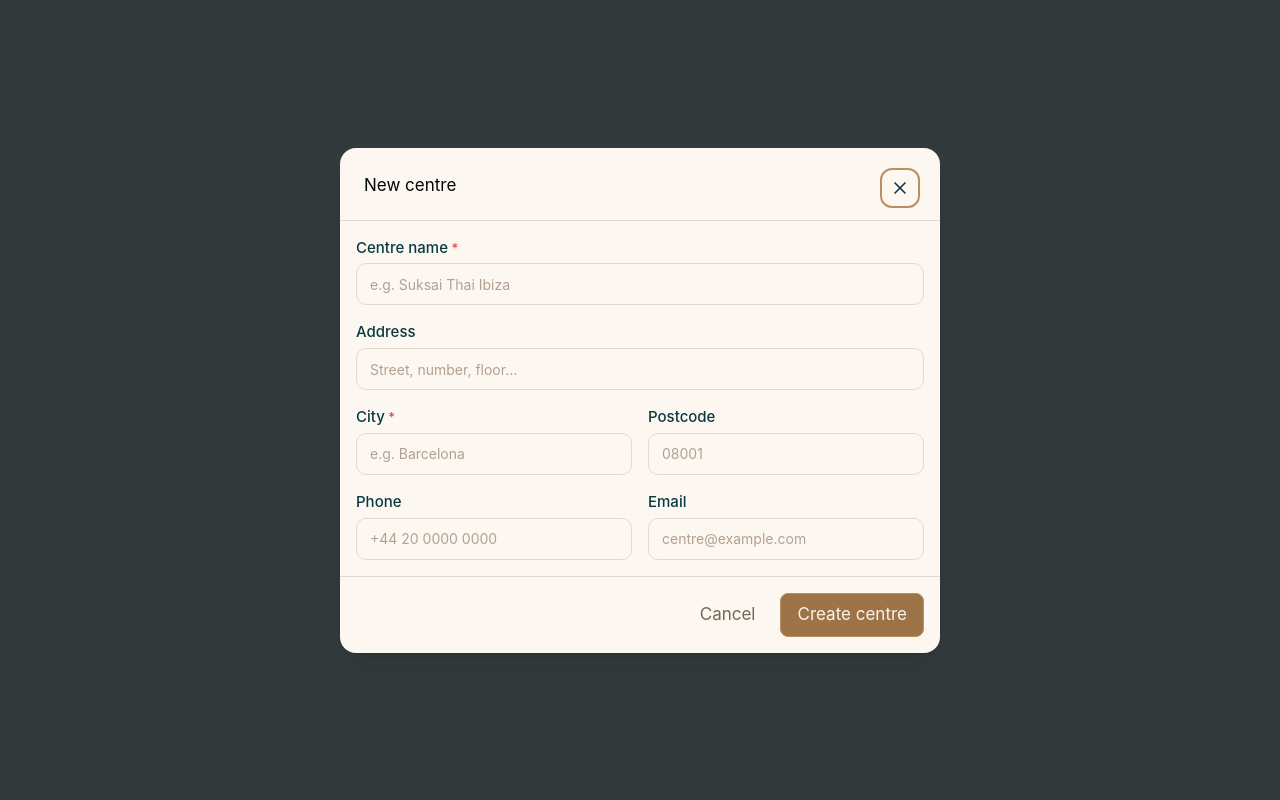
CentroModal — create submission › shows error banner when createMutation throws
In the field labelled "Centre name": point(640, 284) [356,263,924,305], type "Centro Test"
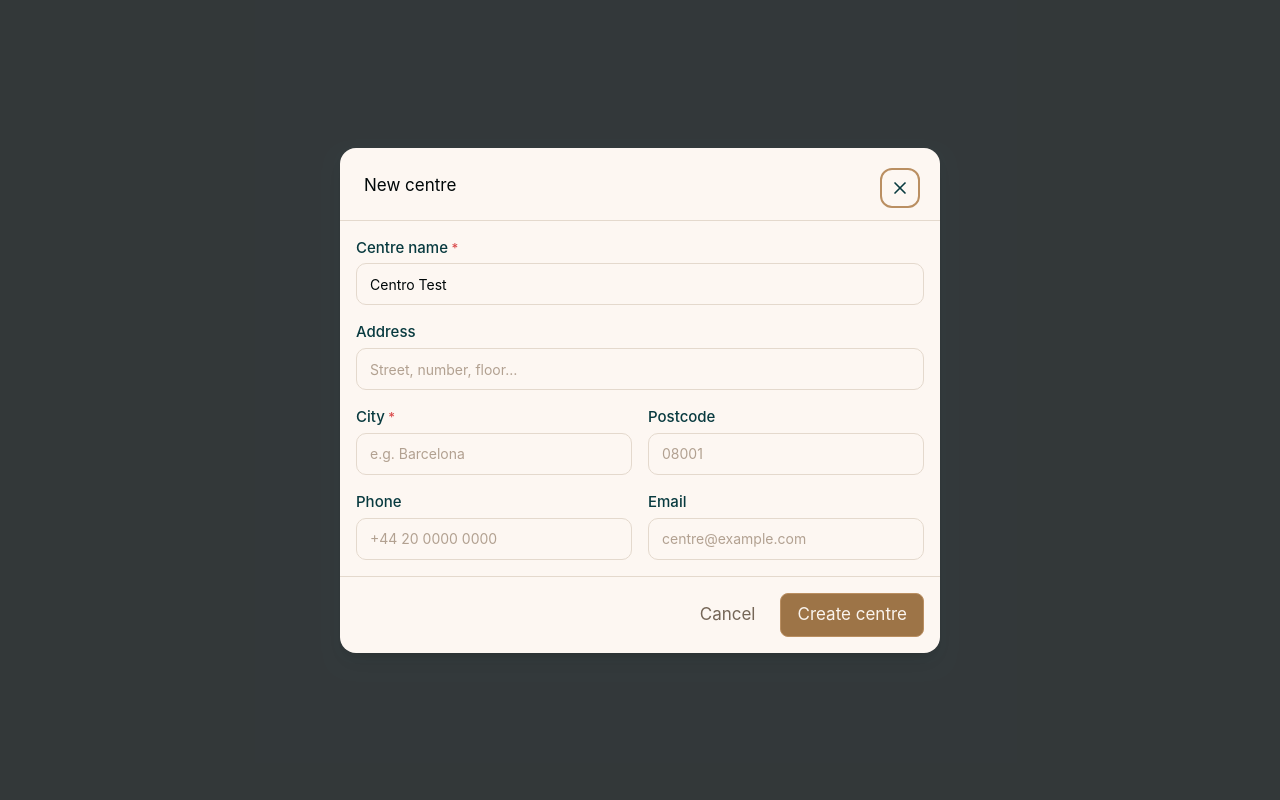
In the field labelled "City": point(494, 454) [356,433,632,475], type "Madrid"
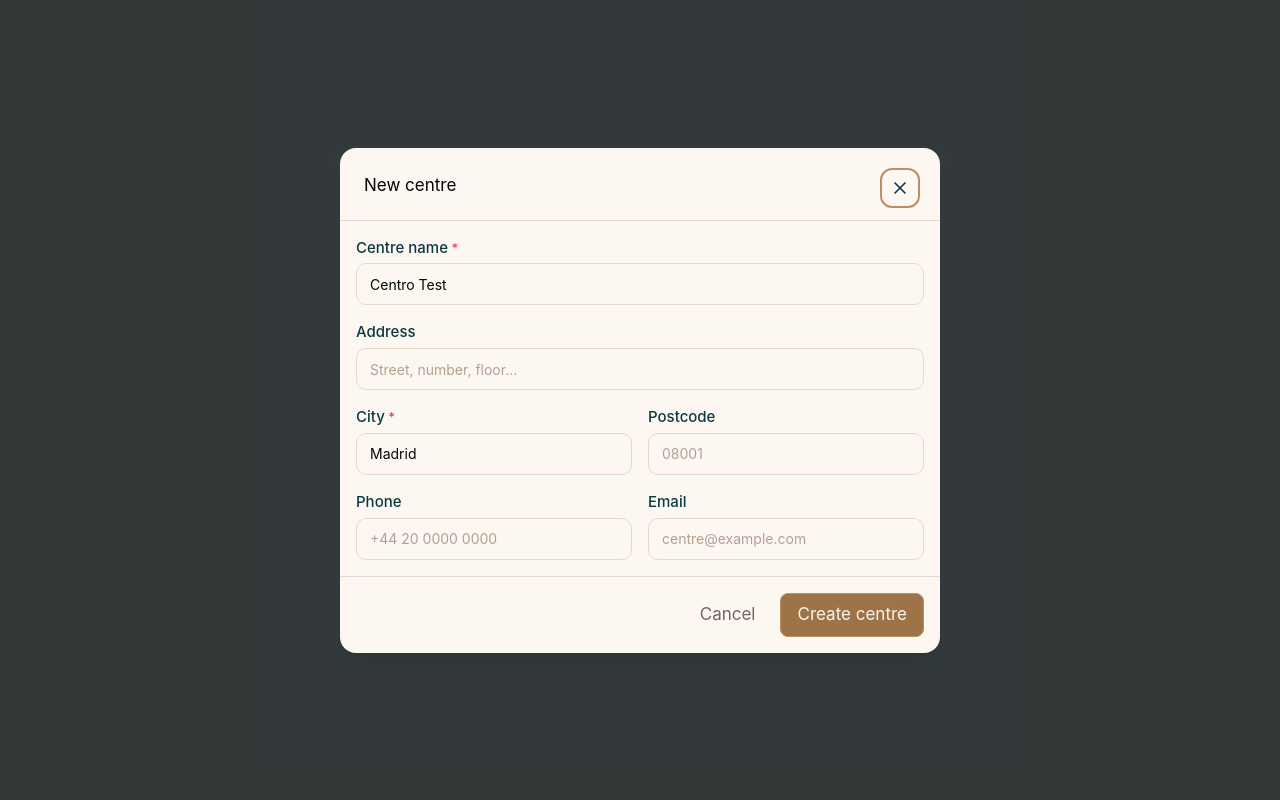
Click the button "Create centre": point(852, 614) [780,592,924,636]
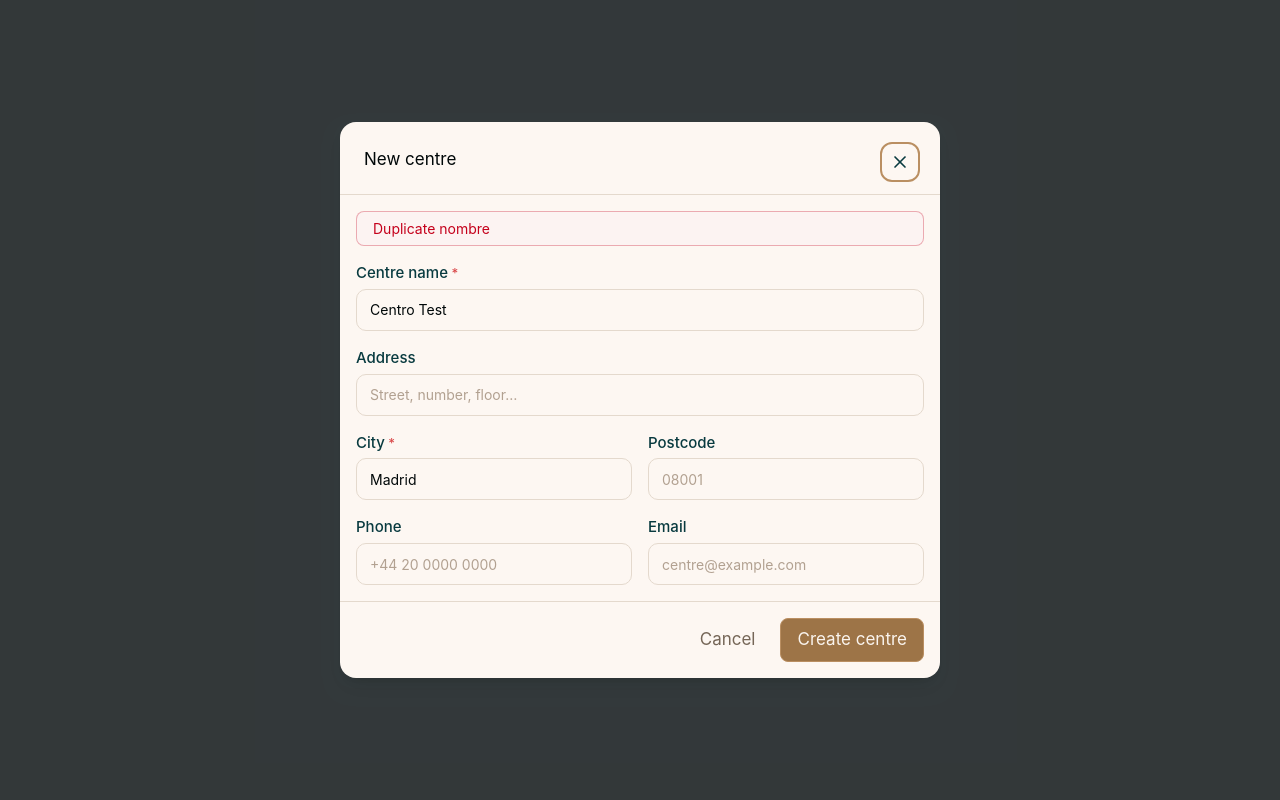
Expected: the message "Duplicate nombre" is shown, [356,211,924,246]
Expected: the message reads "Duplicate nombre", [373,220,490,237]
